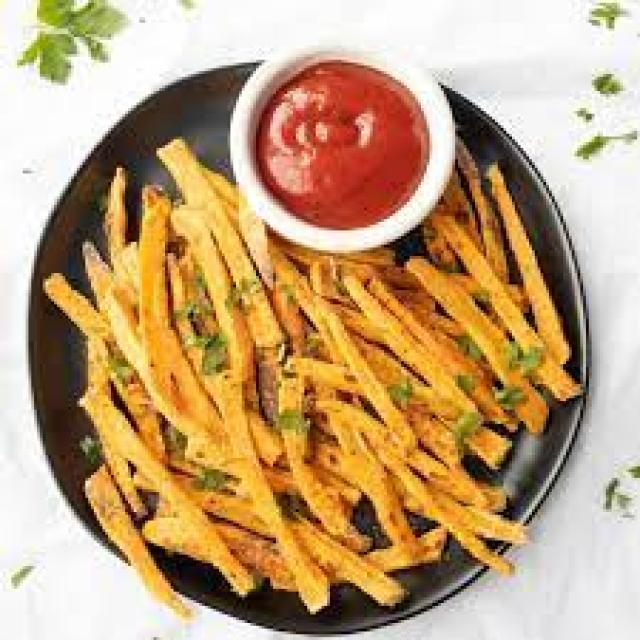감자튀김: (58, 71, 557, 593)
